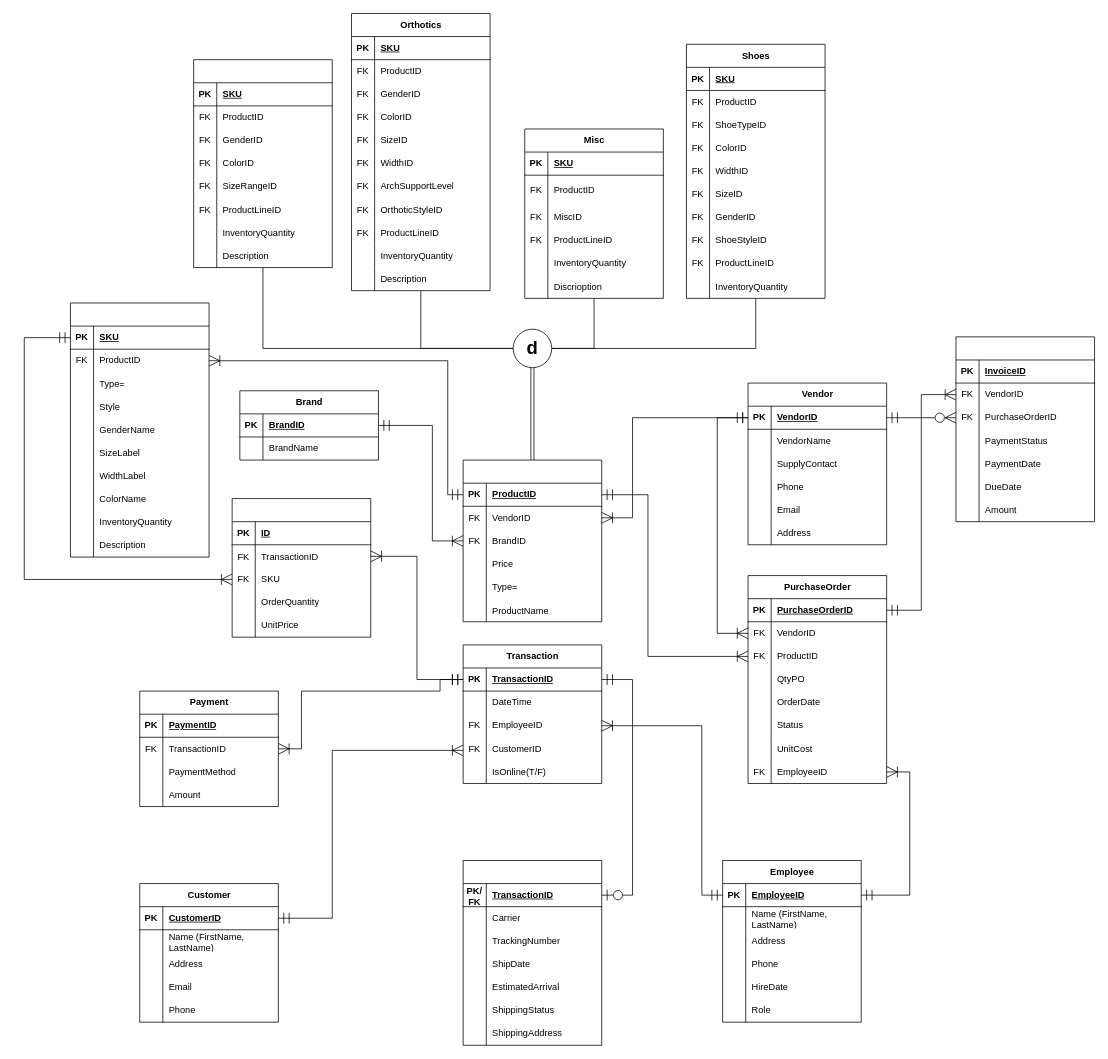
Image size: 1108x1059. Some labels were removed from this diagram. The box of each missing label's shape, as (x1, y1, x2, y2) in pixels:
InventoryView: (70, 302, 209, 557)
OnlineOrder: (462, 860, 602, 1045)
Product (ST): (462, 459, 602, 622)
Socks: (193, 59, 332, 268)
TransactionItem: (231, 498, 371, 637)
VendorInvoice: (955, 336, 1095, 522)
